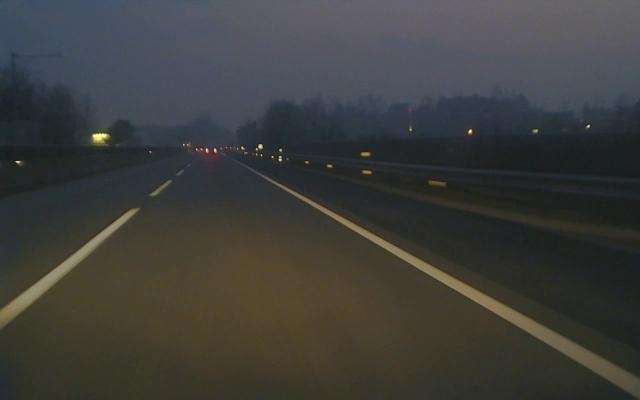lane: (248, 168, 640, 399), (0, 170, 183, 330)
